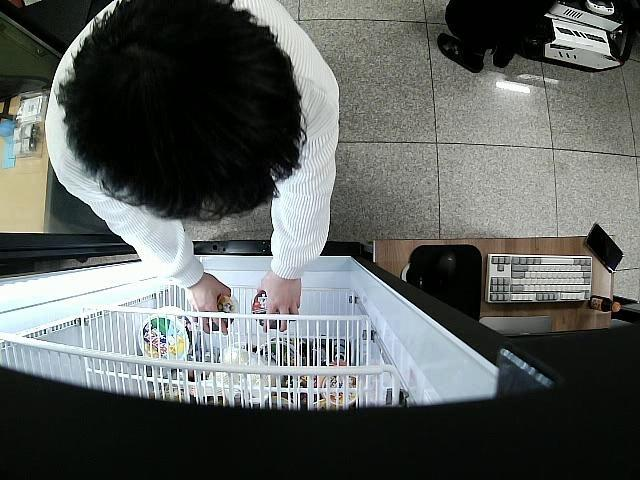08_buldak_S: (200, 292, 236, 332), (252, 292, 288, 332)
